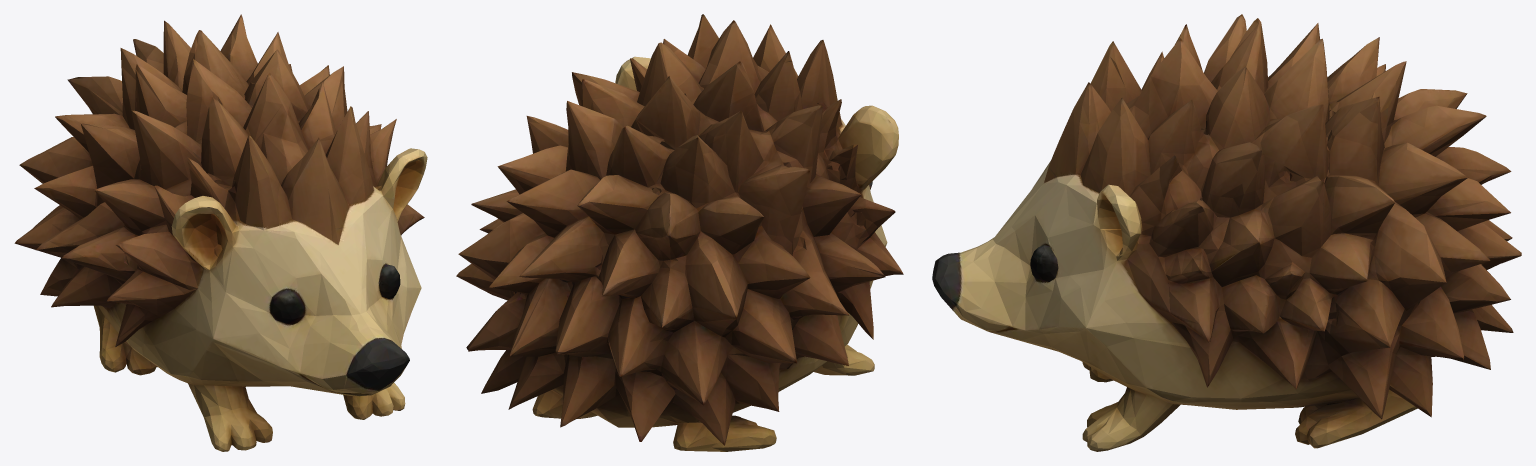
File: hedgehog.glb
The picture shows the model from 3 angles, left to right: view 1: azimuth 30°, elevation 25°; view 2: azimuth 150°, elevation 25°; view 3: azimuth 270°, elevation 25°; orthographic projection. The views are drawn at different scales.
Parts seen in each view (by area): view 1: world; view 2: world; view 3: world.
Part boxes in pixels (bbox=[...]): world: bbox=[14, 14, 427, 451]; world: bbox=[456, 14, 903, 451]; world: bbox=[932, 14, 1521, 451].
Size of the model in its own units: 0.7404 by 0.6826 by 1.
1 material, 1 textured.
